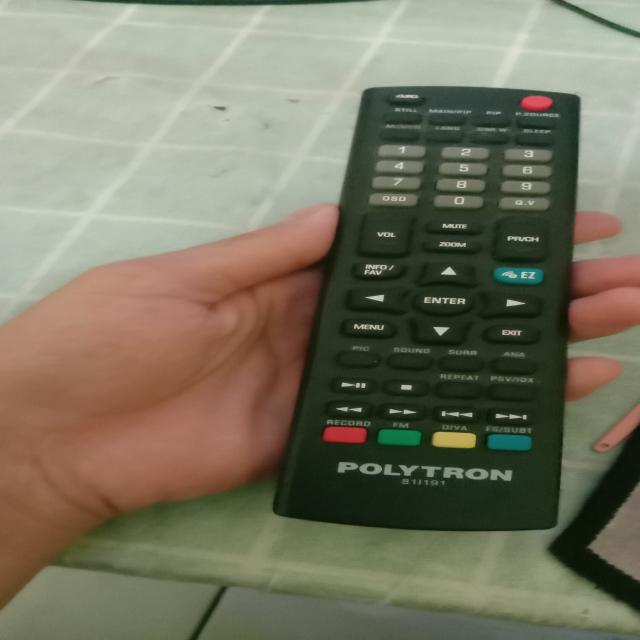remote: (256, 82, 600, 535)
